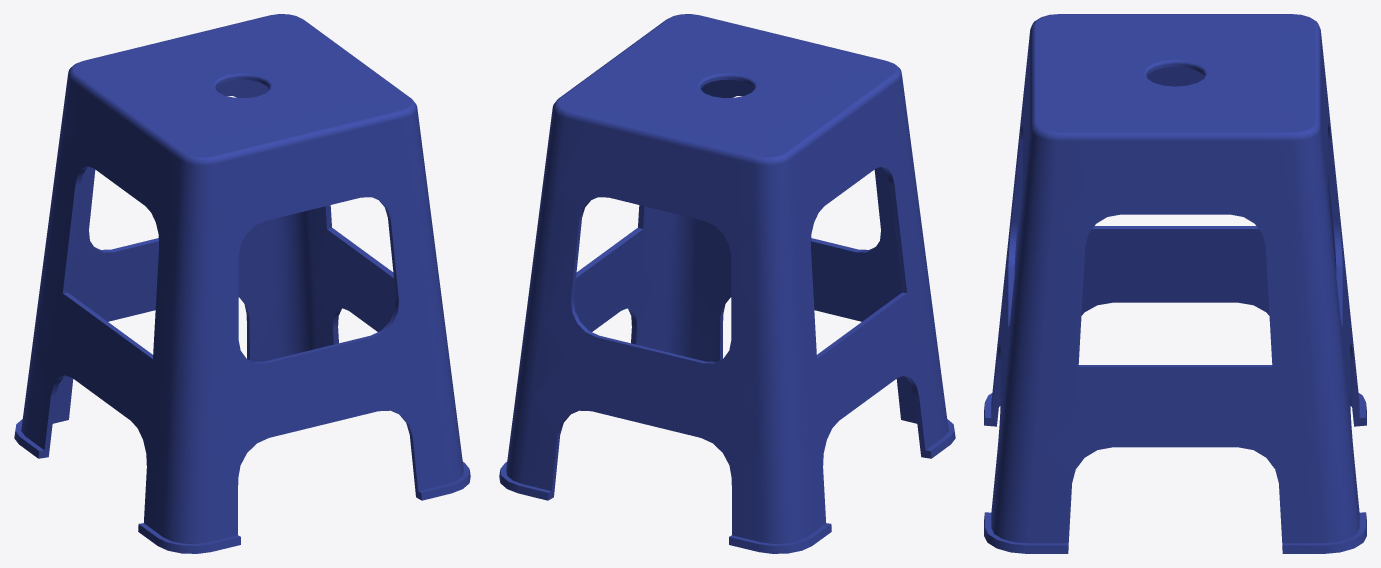
The model's file is chair.fbx.
3 renders of one model, left to right at view 1: azimuth 30°, elevation 25°; view 2: azimuth 150°, elevation 25°; view 3: azimuth 270°, elevation 25°, orthographic. The views are drawn at different scales.
Visible parts, largest first — view 1: pCube1; view 2: pCube1; view 3: pCube1.
Part boxes in pixels (x1,y1,x2,y2): pCube1: [14, 14, 470, 553]; pCube1: [499, 14, 955, 553]; pCube1: [984, 14, 1366, 553].
Bounding box in the file's own units: 37.27 × 43.08 × 37.27.
